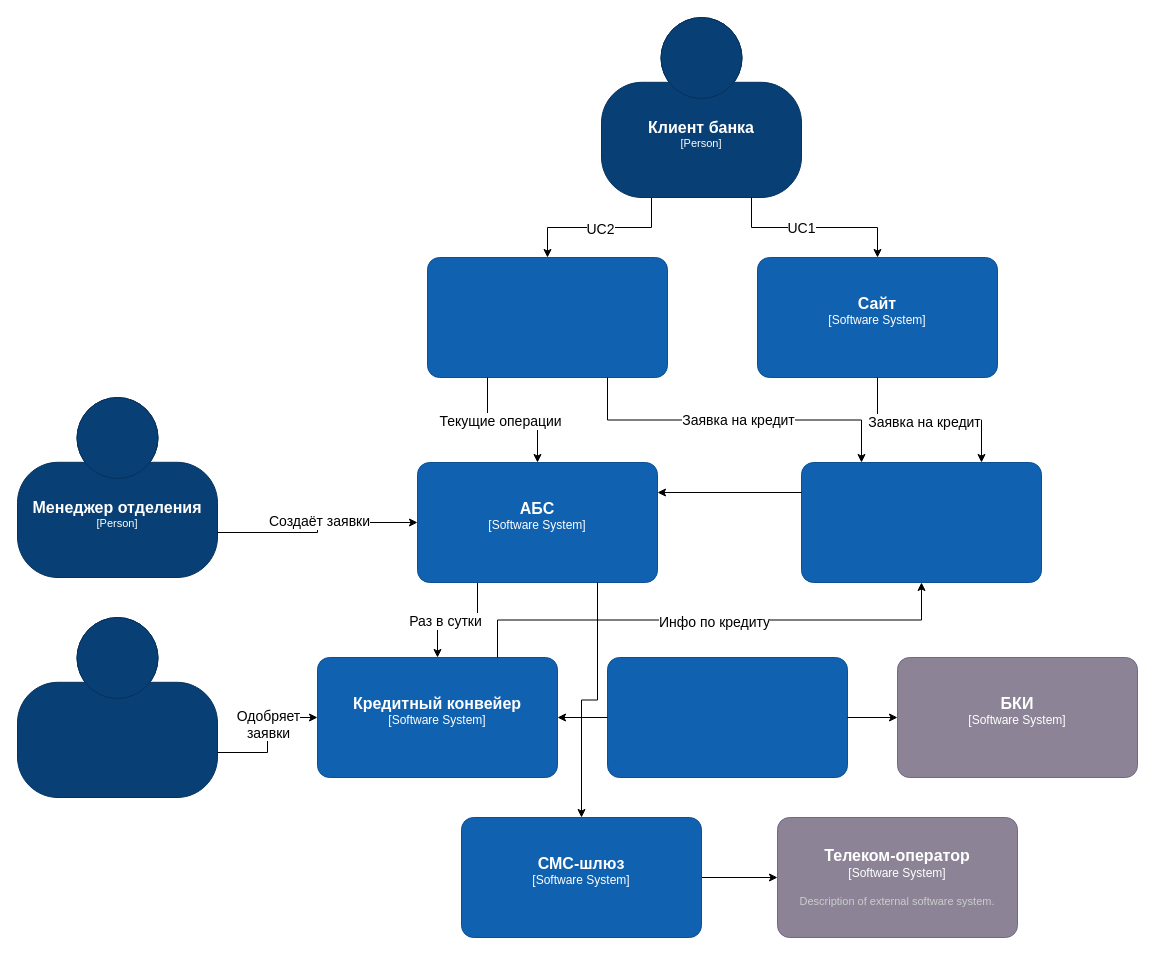
Image size: 1155x955. Some labels were removed from this diagram. Each missing label, with the centre of its shape:
"Интернет-банк [Software System]" goes at [547,317].
"Менеджер бэк-офиса [Person]" goes at [117,707].
"Сервис обслуживания кредитных заявок [Software System]" goes at [921,522].
"Система скоринга [Software System]" goes at [727,717].
